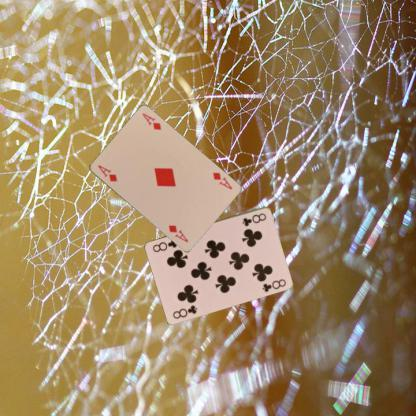8c: (170, 302, 199, 320), (240, 210, 267, 228)
Ad: (95, 162, 118, 184), (210, 170, 233, 191)
